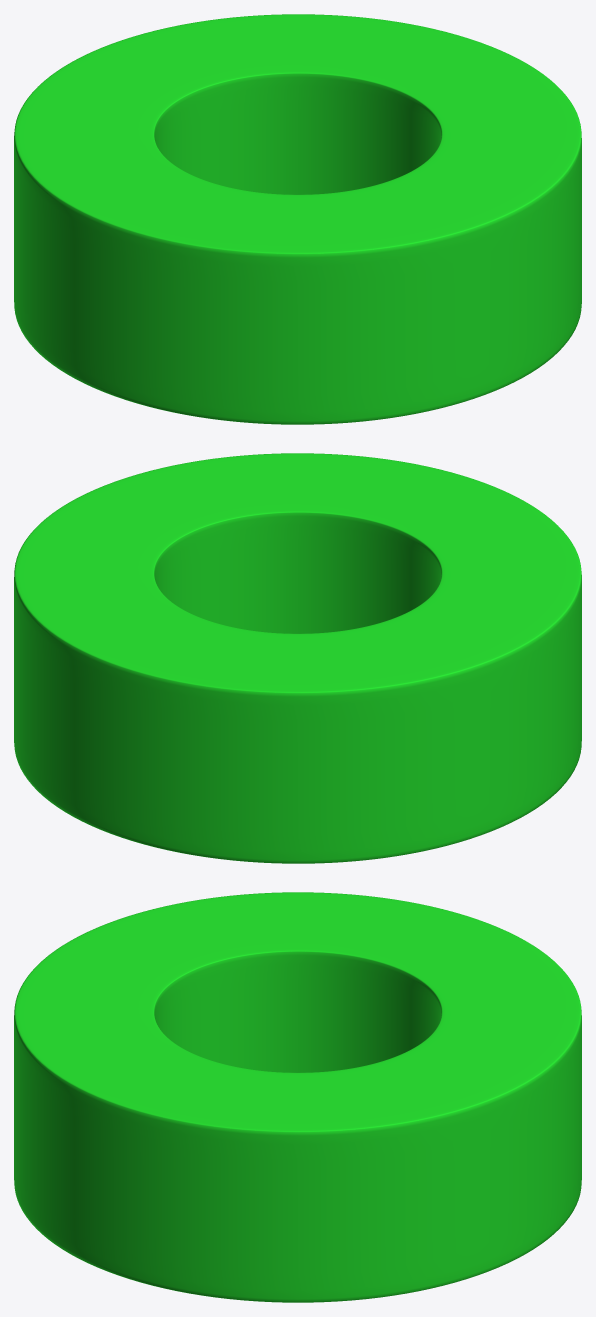
Rendered from PipeTop 1.fbx.
3 renders of one model, top to bottom at view 1: azimuth 30°, elevation 25°; view 2: azimuth 150°, elevation 25°; view 3: azimuth 270°, elevation 25°, orthographic.
Visible parts, largest first — view 1: Top; view 2: Top; view 3: Top.
Part boxes in pixels (left/top/right/bottom): Top: left=14, top=14, right=581, bottom=424; Top: left=14, top=453, right=581, bottom=863; Top: left=14, top=892, right=581, bottom=1302.
Size of the model in its own units: 1.2 by 0.4 by 1.2.
